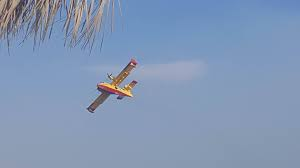plane: (85, 56, 138, 112)
